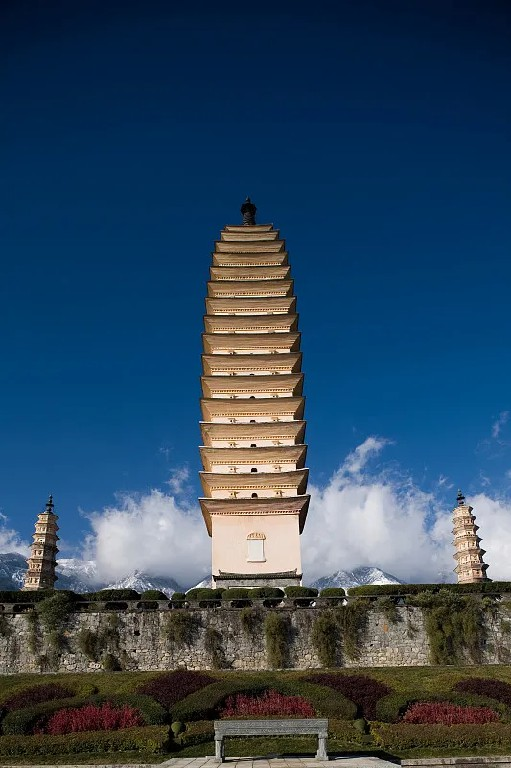ThreePagoda: (196, 198, 311, 587)
